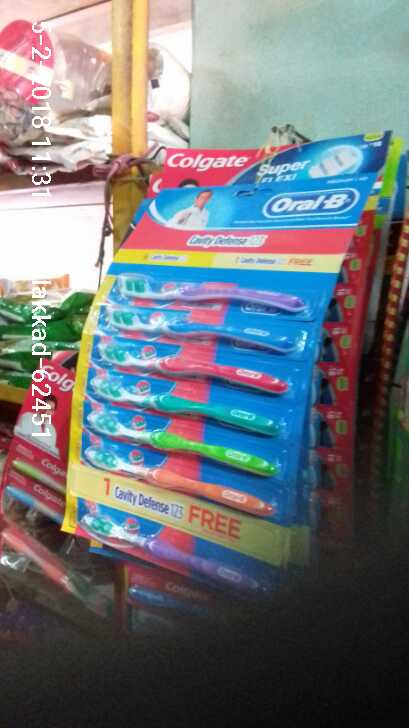oralb: (91, 373, 296, 446), (102, 304, 296, 359), (93, 343, 295, 393), (114, 270, 300, 322)
